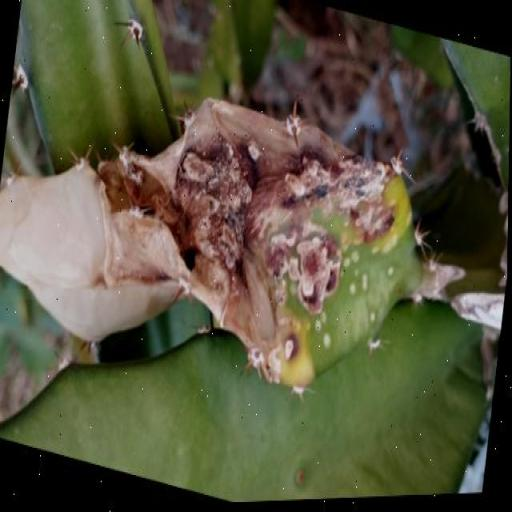stemcanker: (178, 32, 196, 67), (171, 176, 183, 199), (181, 188, 195, 207), (131, 214, 144, 234), (118, 262, 132, 278), (162, 258, 172, 277), (177, 200, 188, 216), (154, 268, 164, 282), (155, 235, 164, 250)
